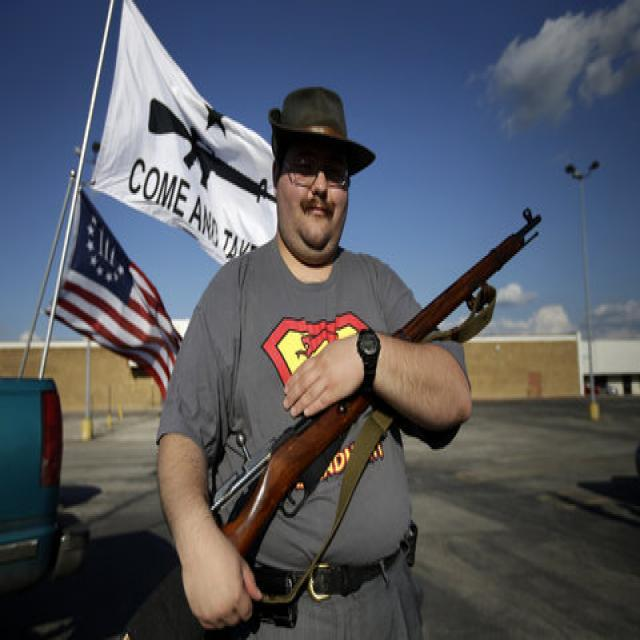weapon: (184, 204, 550, 628)
